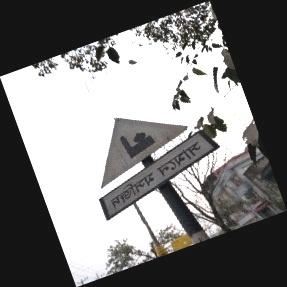Mosque in front: (99, 109, 221, 221)
